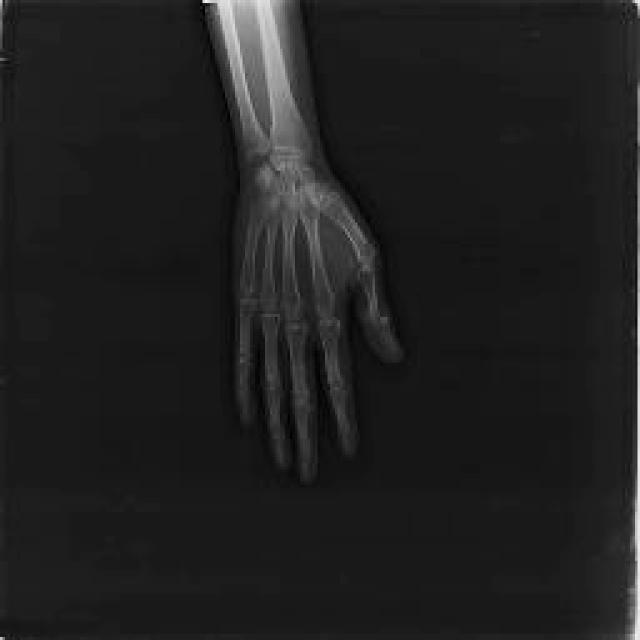normal: (218, 2, 399, 482)
